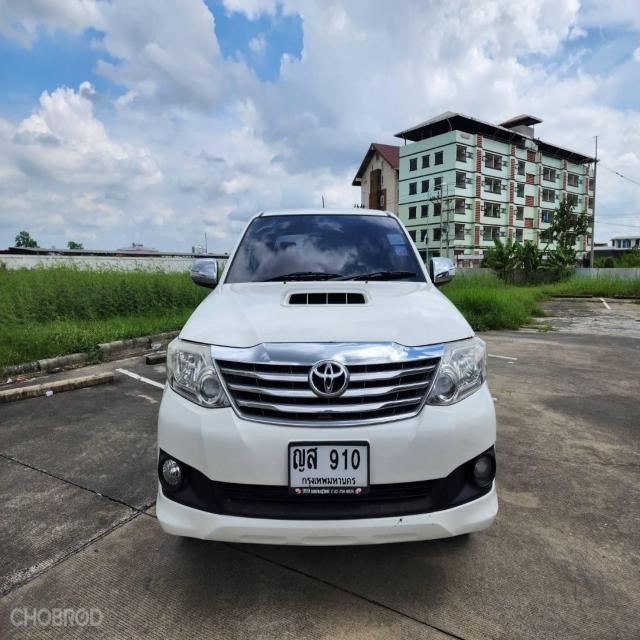license_plate: (286, 438, 373, 497)
